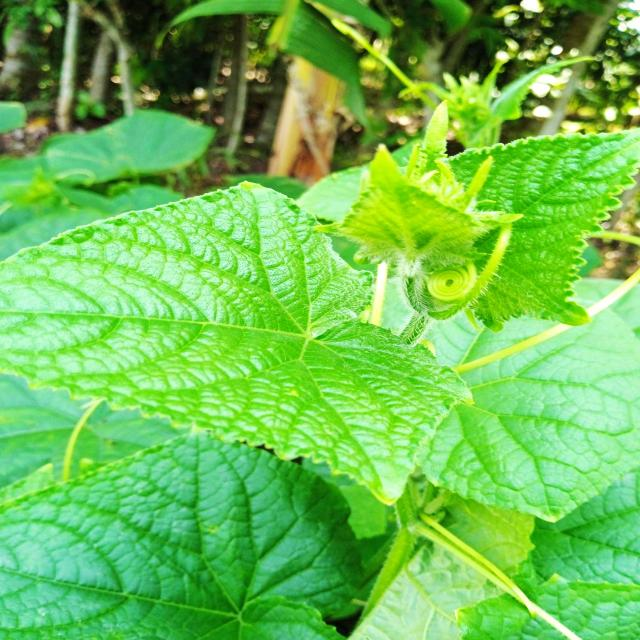Fresh-Leaf: (0, 180, 475, 503), (445, 129, 640, 336)
